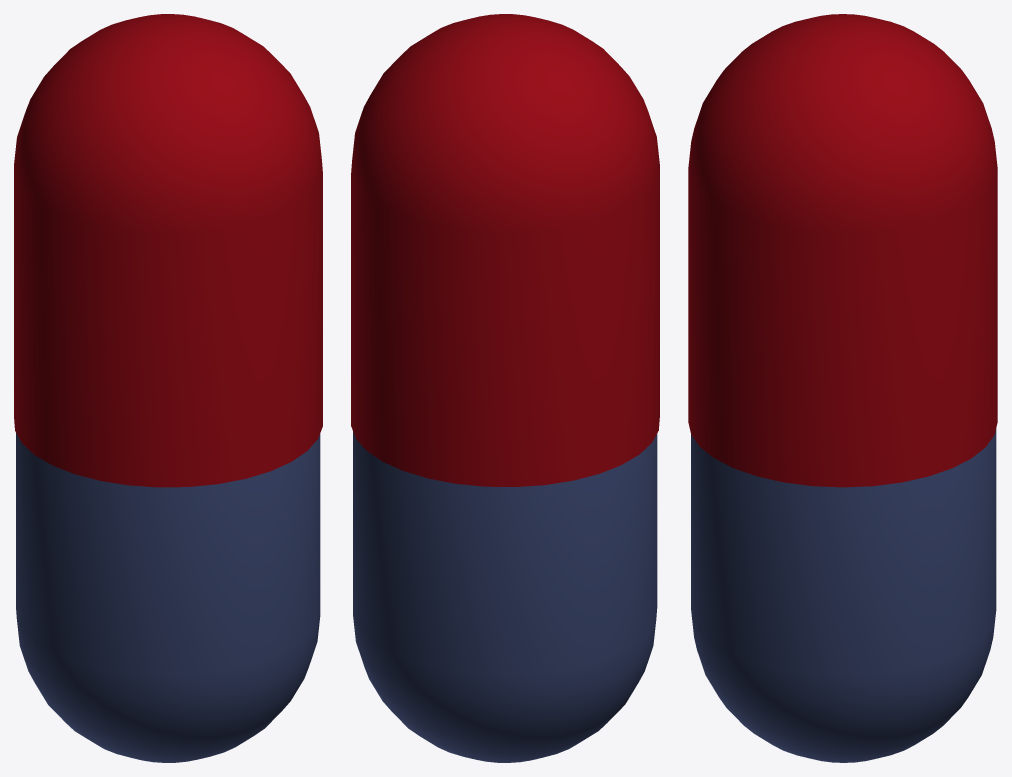
3 renders of one model, left to right at view 1: azimuth 30°, elevation 25°; view 2: azimuth 150°, elevation 25°; view 3: azimuth 270°, elevation 25°, orthographic.
Visible parts, largest first — view 1: Sphere, Sphere.001; view 2: Sphere, Sphere.001; view 3: Sphere, Sphere.001.
Part boxes in pixels (x1=…): Sphere: x1=14, y1=14, x2=322, y2=487; Sphere.001: x1=16, y1=433, x2=320, y2=762; Sphere: x1=351, y1=14, x2=659, y2=486; Sphere.001: x1=353, y1=431, x2=657, y2=762; Sphere: x1=688, y1=14, x2=997, y2=487; Sphere.001: x1=691, y1=429, x2=996, y2=762.
Size of the model in its own units: 200 by 514 by 200.
